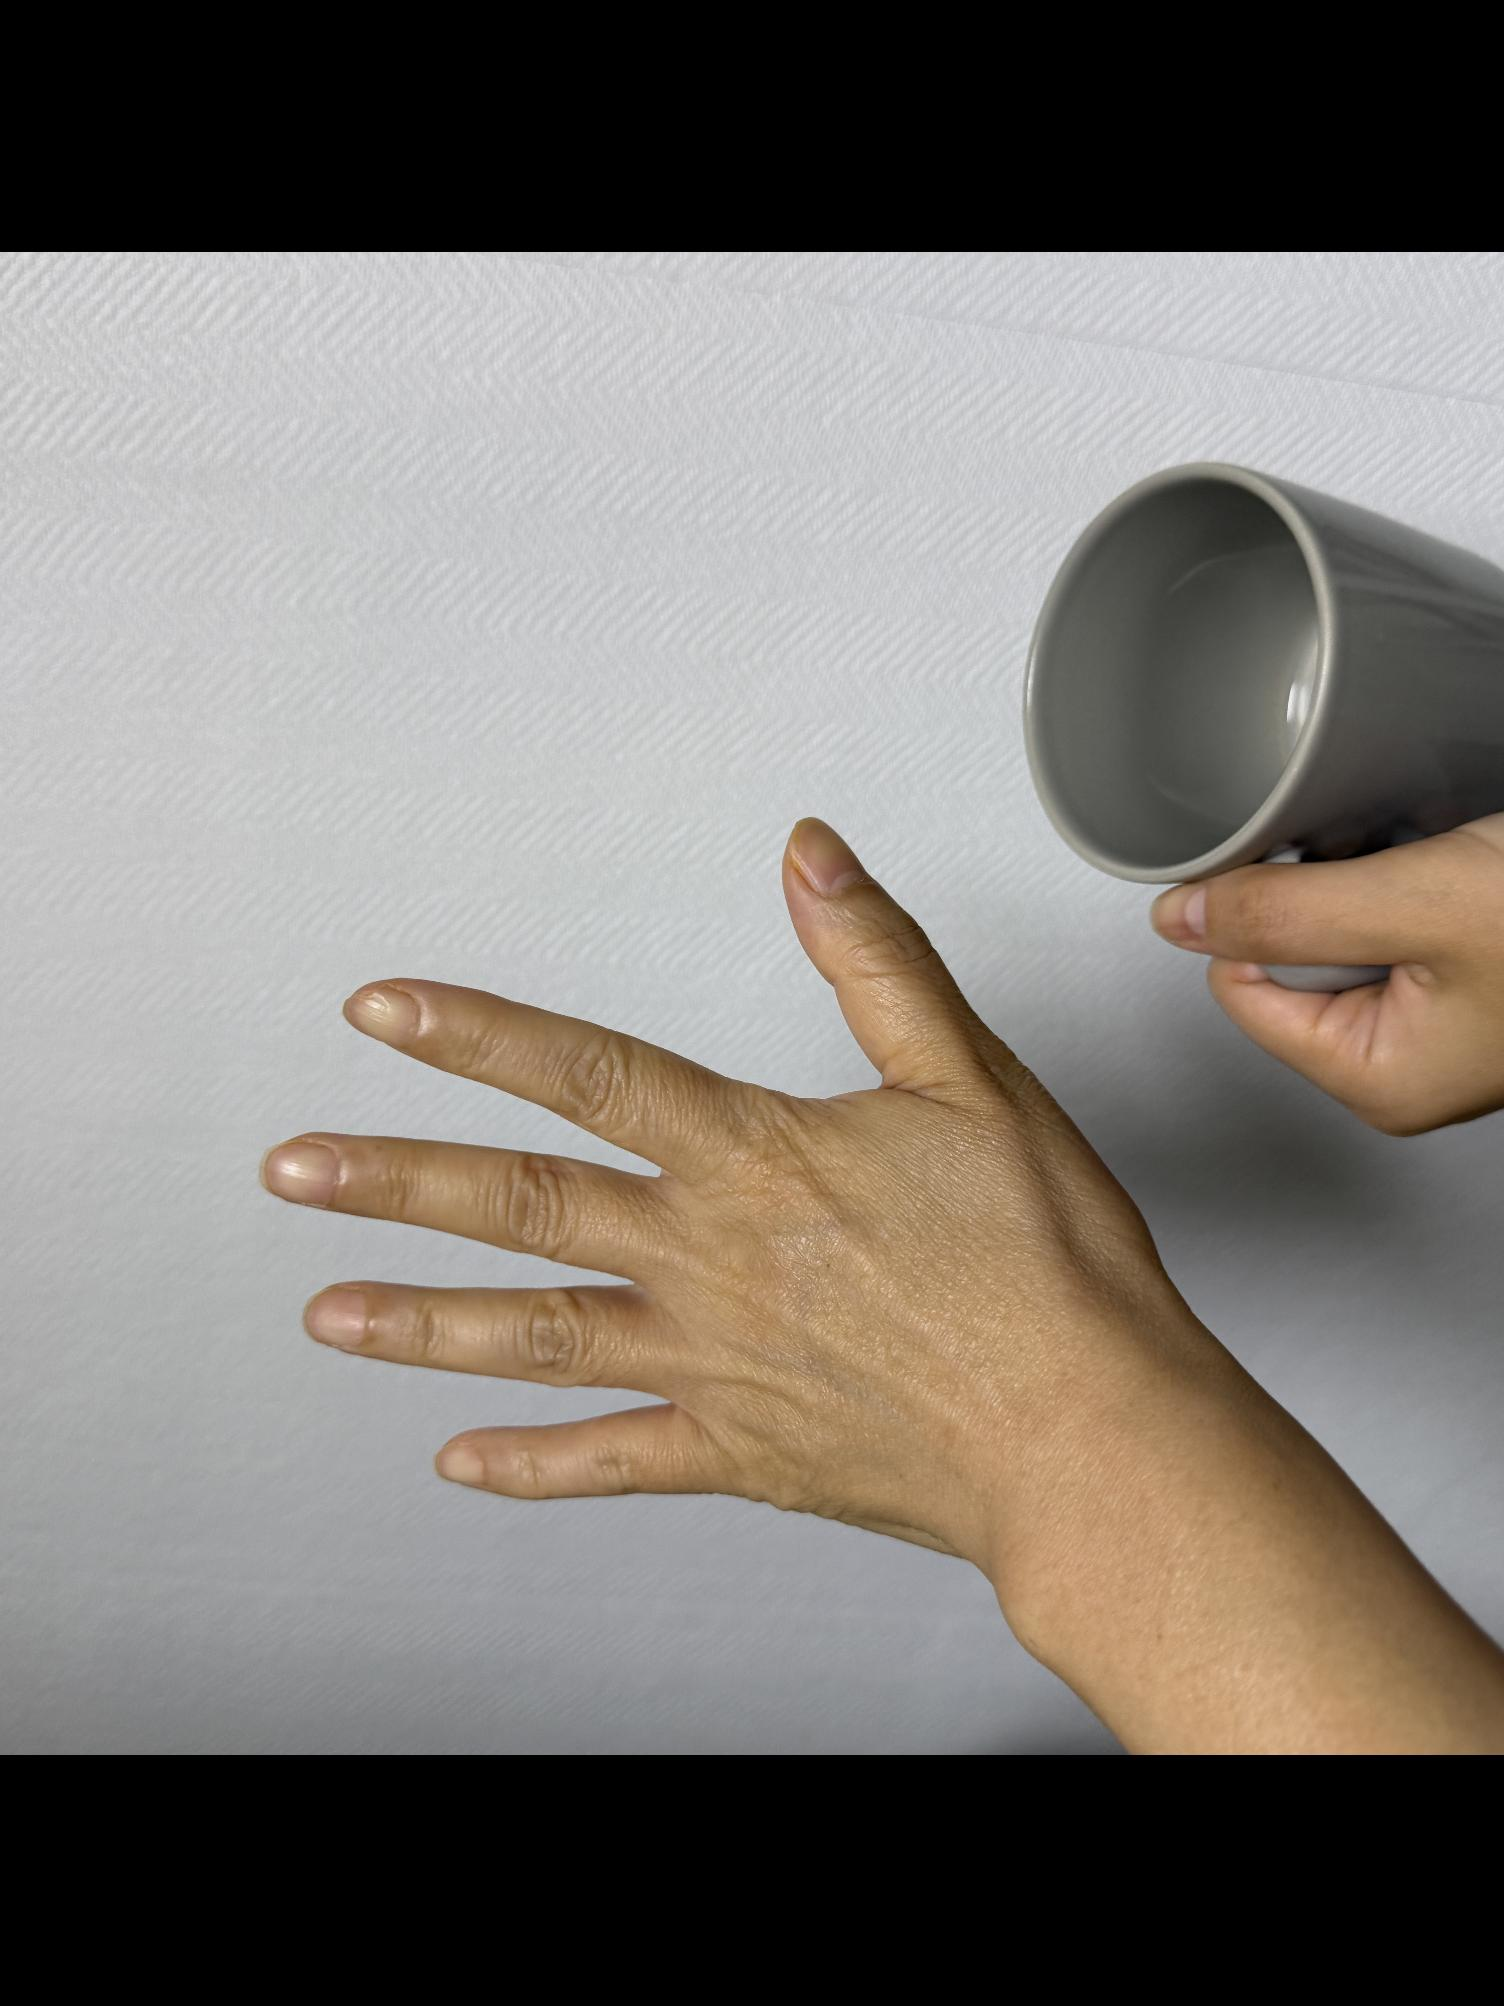cup: (1004, 442, 1504, 1145)
